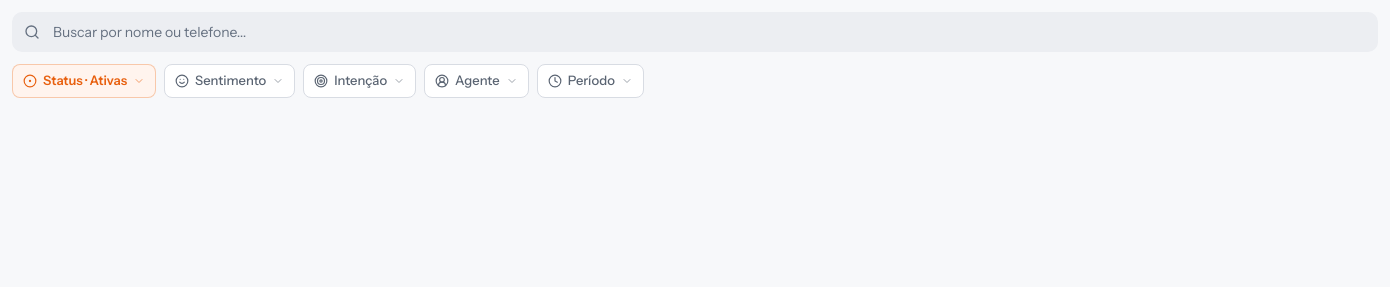
Test: ConversationFiltersCompact — chip-trigger › abrir chip Sentimento mostra as 4 opções no popover
Click the button "Sentimento": {"x": 230, "y": 81} left=164, top=64, right=295, bottom=98
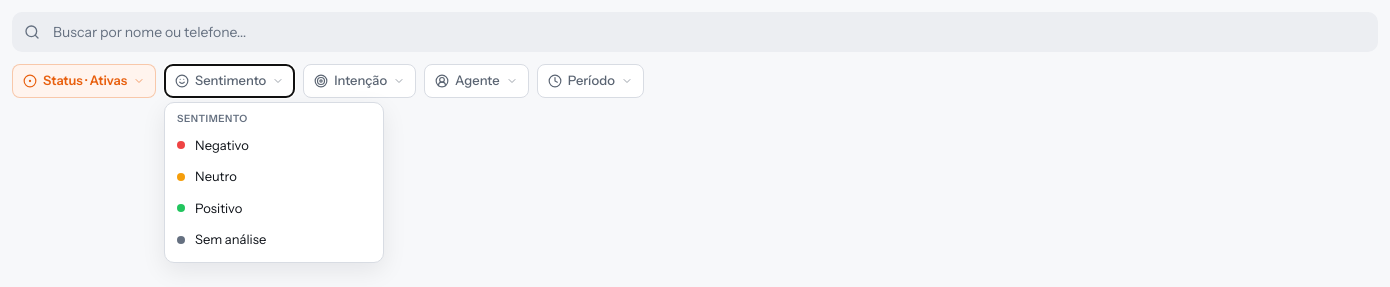
Expected: the button "Negativo" is shown, left=165, top=130, right=383, bottom=161
Expected: the button "Neutro" is shown, left=165, top=161, right=383, bottom=192
Expected: the button "Positivo" is shown, left=165, top=192, right=383, bottom=224
